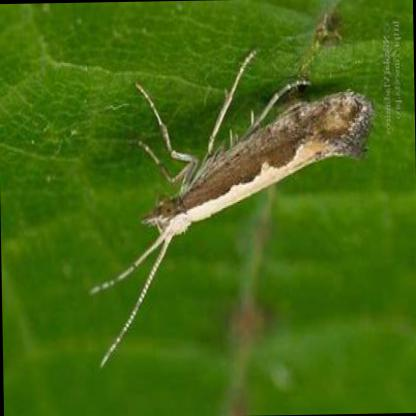plutella: (70, 41, 376, 376)
